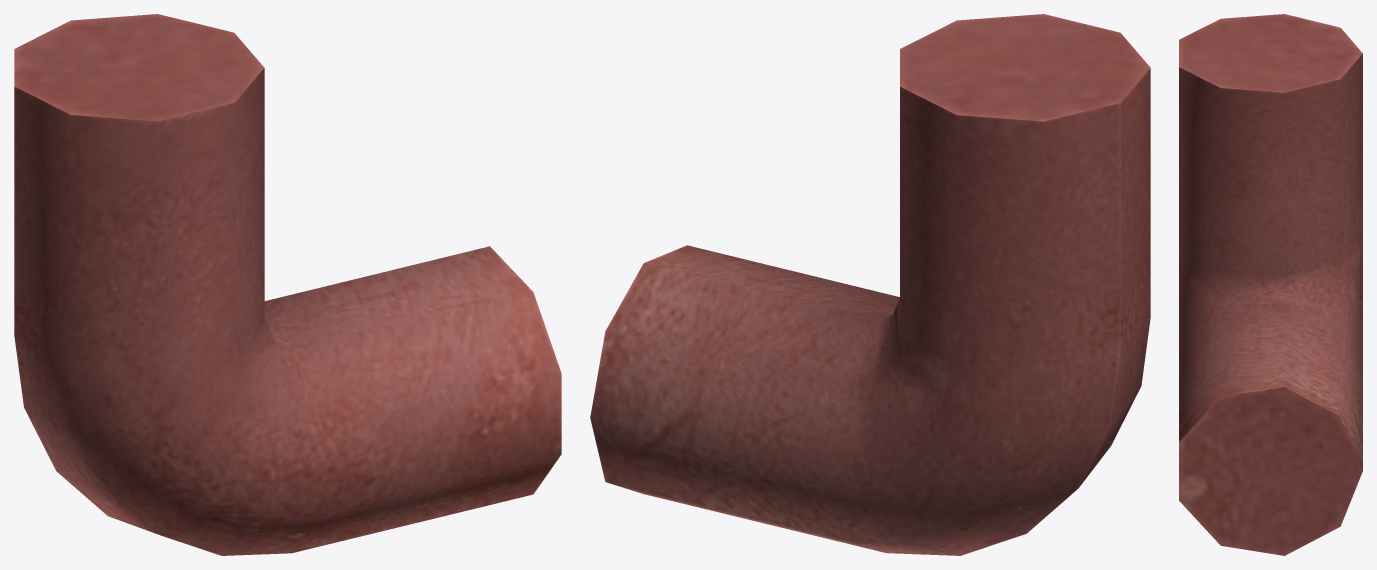
File: Drainage_B.FBX
3 renders of one model, left to right at view 1: azimuth 30°, elevation 25°; view 2: azimuth 150°, elevation 25°; view 3: azimuth 270°, elevation 25°, orthographic. The views are drawn at different scales.
Visible parts, largest first — view 1: Drainage_B; view 2: Drainage_B; view 3: Drainage_B.
Part boxes in pixels (left/top/right/bottom): Drainage_B: left=14, top=14, right=561, bottom=555; Drainage_B: left=590, top=14, right=1150, bottom=555; Drainage_B: left=1179, top=14, right=1362, bottom=555.
Size of the model in its own units: 50.31 by 22.92 by 51.16.
Materials: 1 (1 with a texture image).
